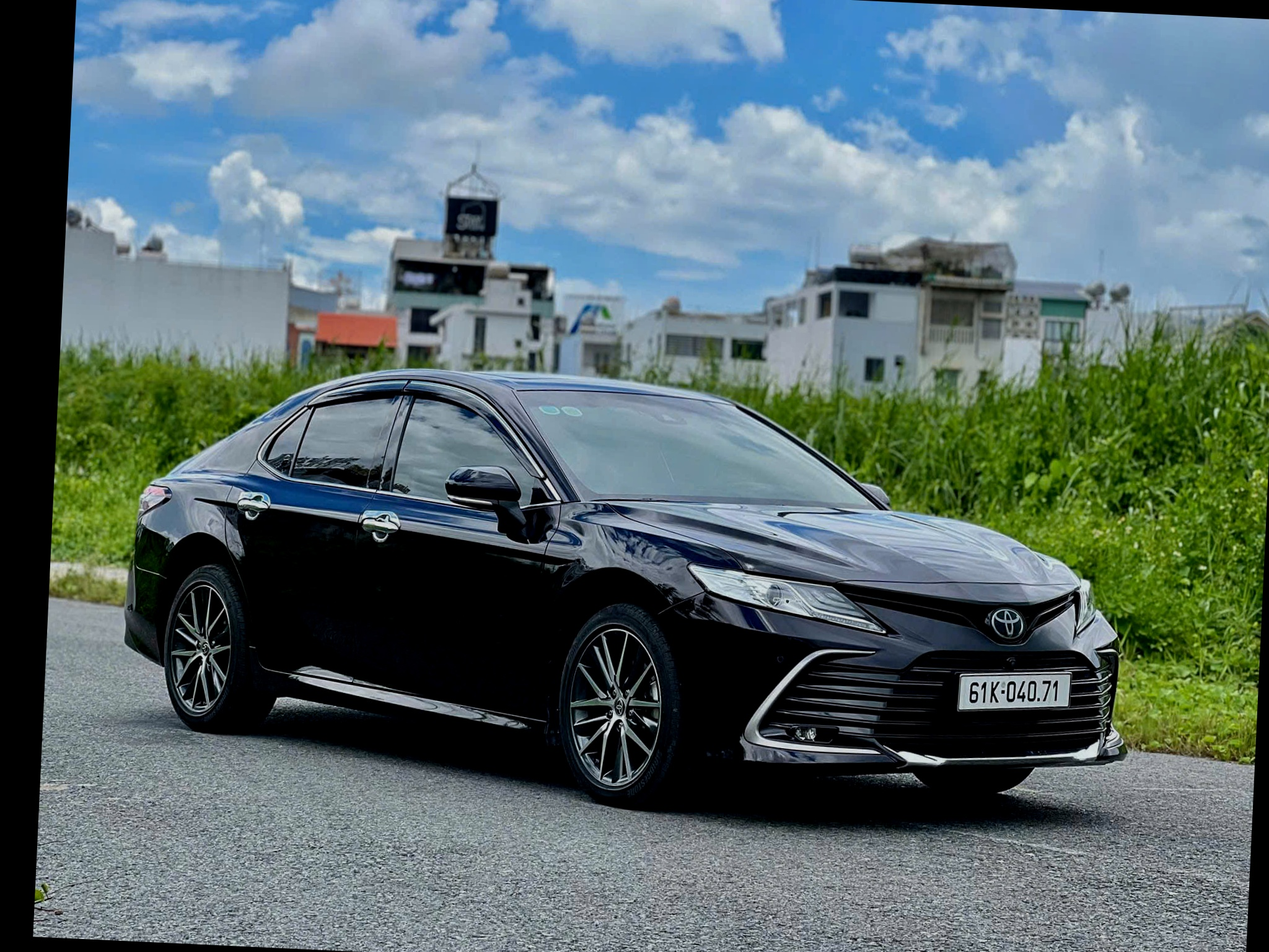Bien-so: (954, 644, 1076, 695)
